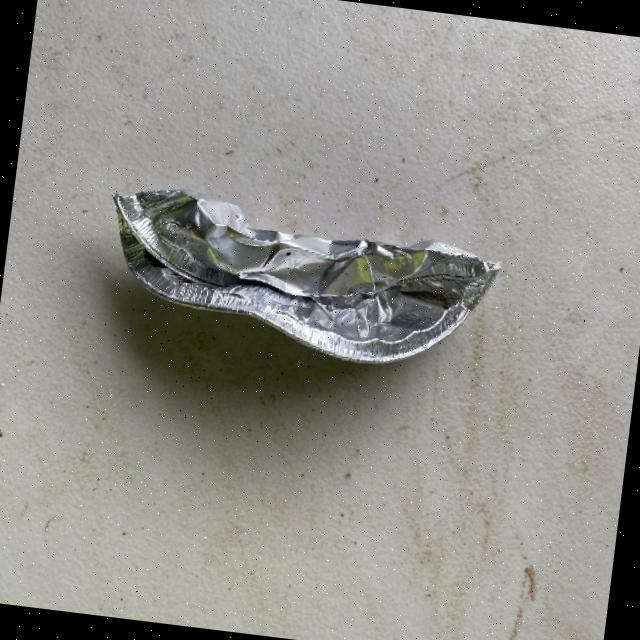metal: (94, 178, 505, 378)
